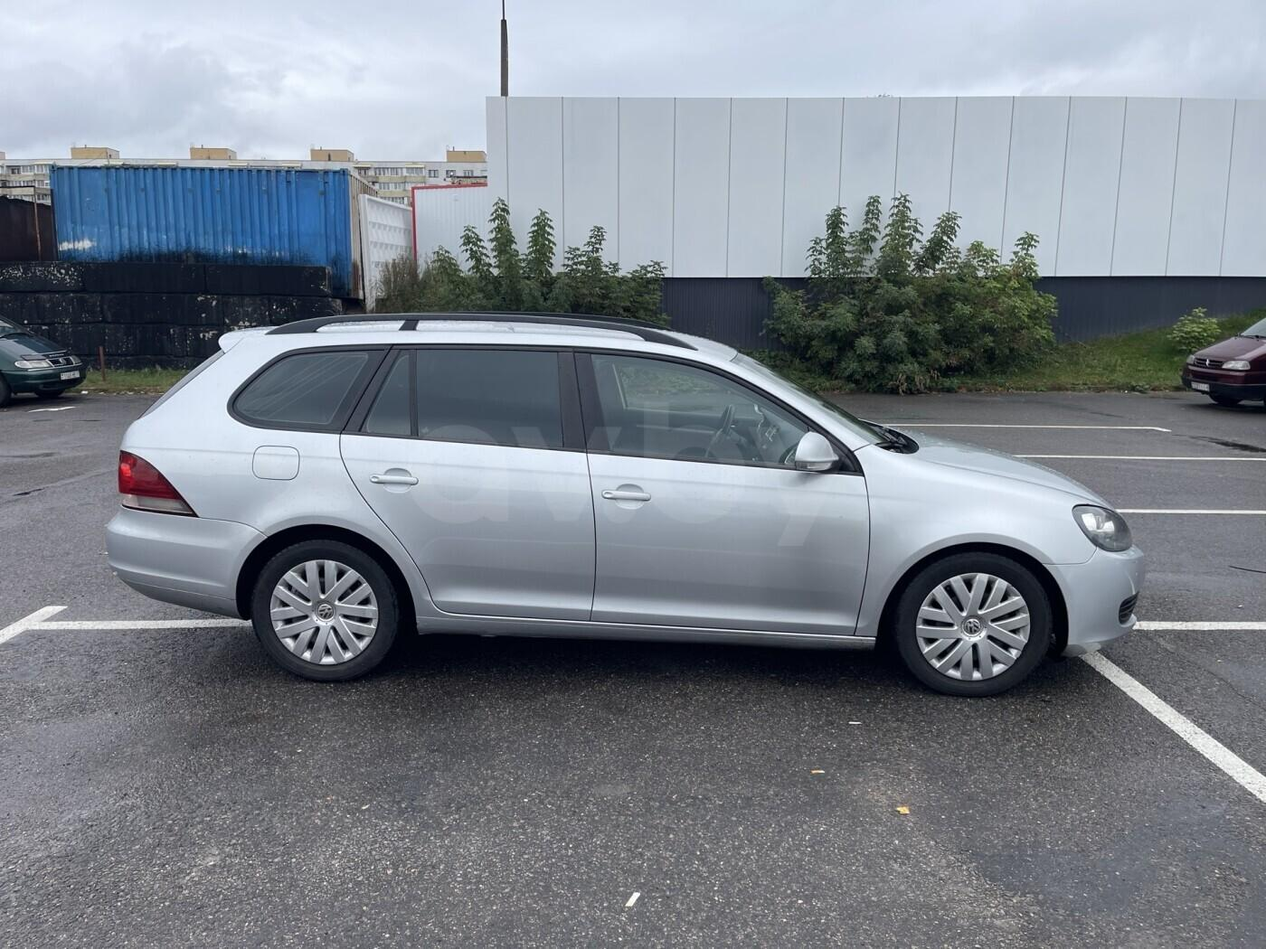Golf_2008-2013: (112, 315, 1147, 708)
